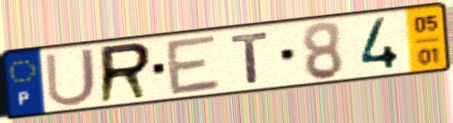4: (358, 14, 403, 73)
8: (299, 19, 347, 82)
E: (163, 32, 224, 98)
R: (96, 40, 155, 107)
T: (228, 29, 272, 86)
U: (42, 45, 100, 108)
